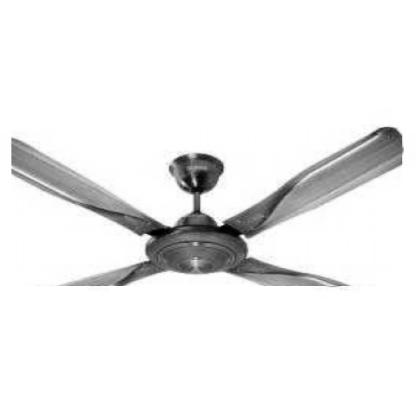ceiling-fan: (11, 127, 403, 287)
